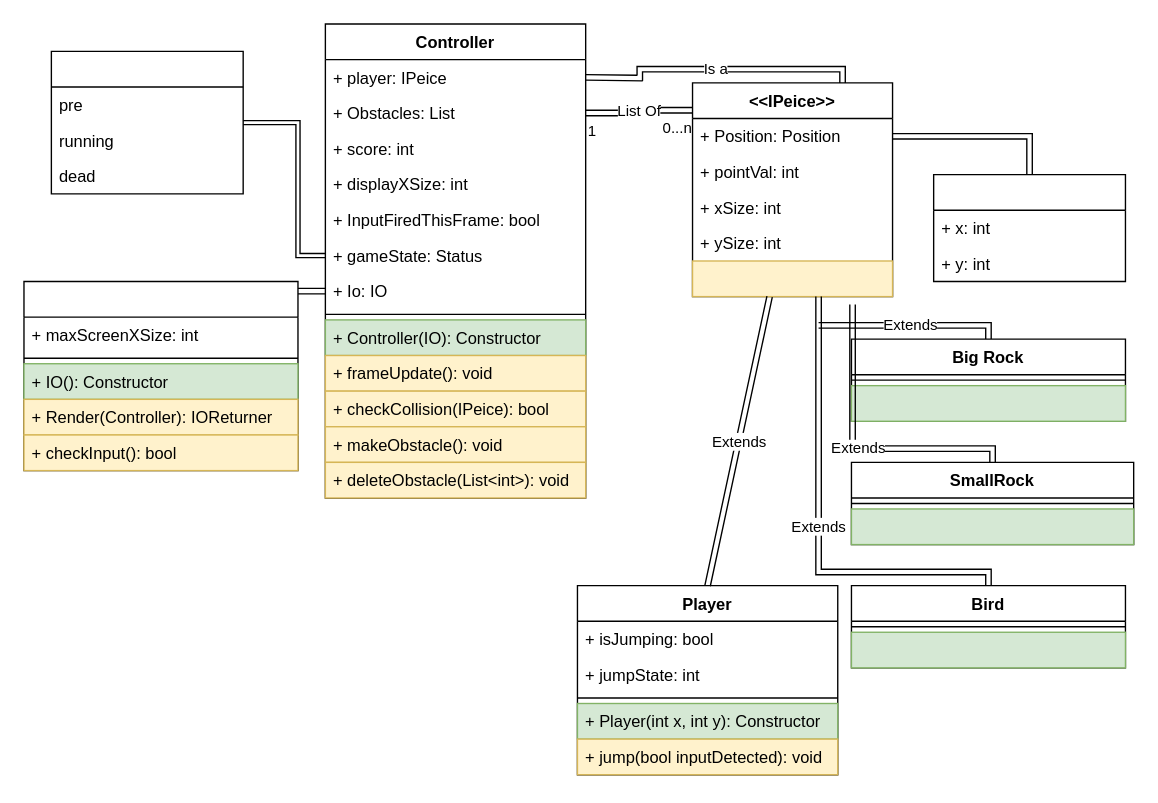
Image size: 1158x803. Some labels were removed from this diagram. The box of each missing label's shape, as (x1, y1, x2, y2) in pixels:
+ BigRock(int x, int y): Constructor: (850, 384, 1125, 421)
+ Bird(int x, int y): Constructor: (850, 631, 1125, 668)
+ onFrameUpdate(): void: (691, 260, 893, 297)
+ SmallRock(int x, int y): Constructor: (850, 508, 1134, 545)
Enum Status: (50, 50, 243, 194)
IO: (23, 280, 298, 471)
Position: (932, 173, 1125, 282)
